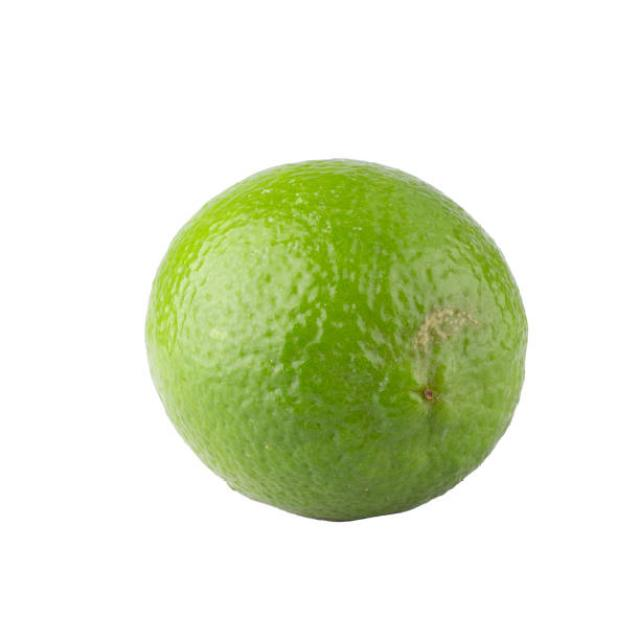Unripe: (144, 156, 529, 522)
